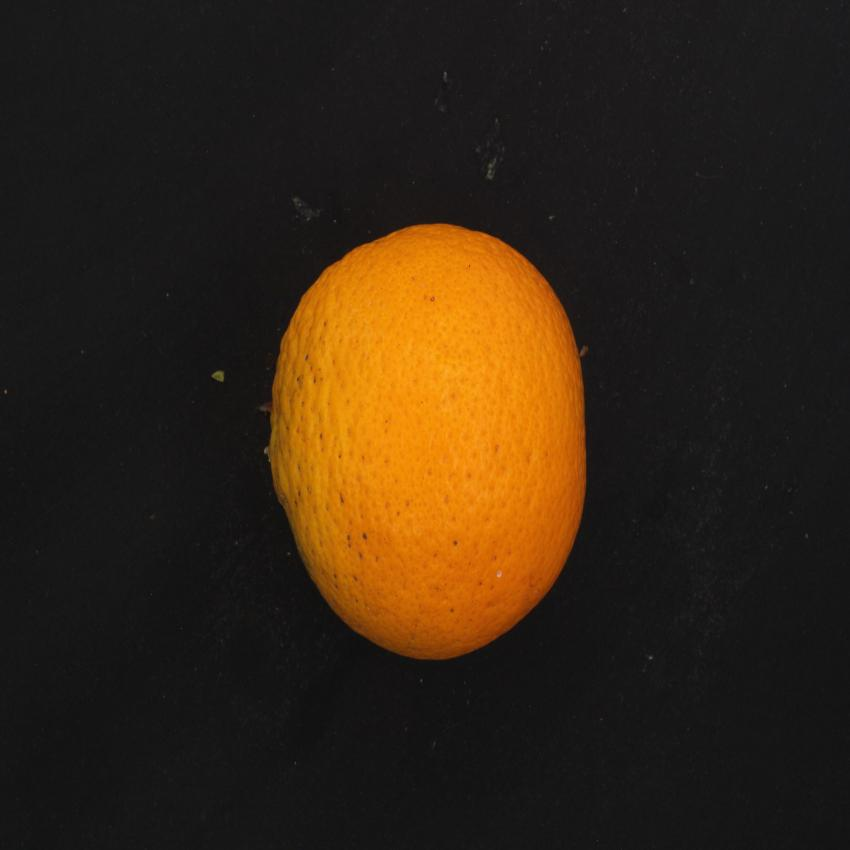Buen estado: (257, 212, 597, 673)
